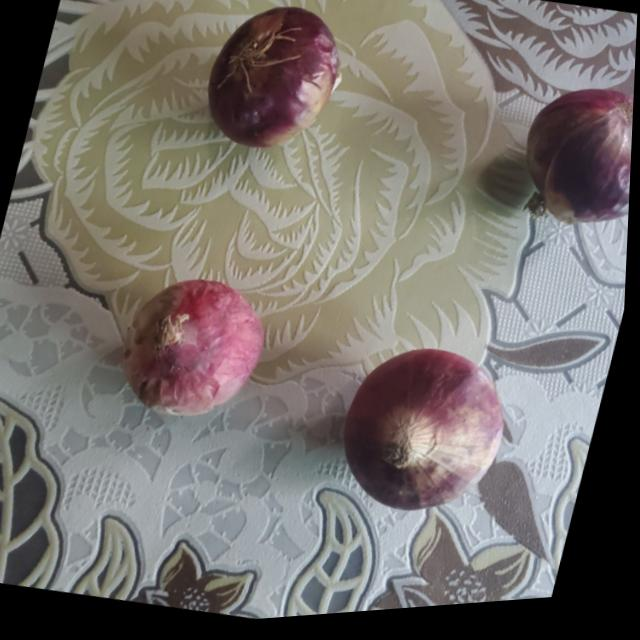onion: (329, 336, 524, 536), (119, 268, 285, 437), (199, 0, 361, 169), (508, 86, 636, 254)
